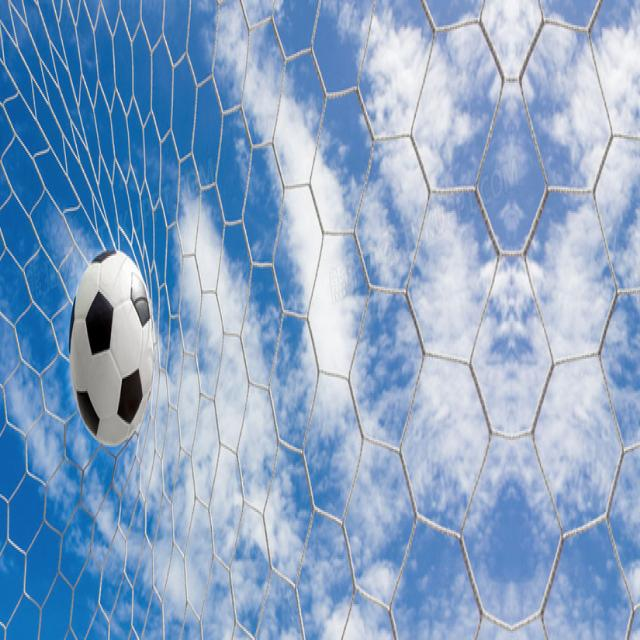football: (60, 229, 175, 473)
